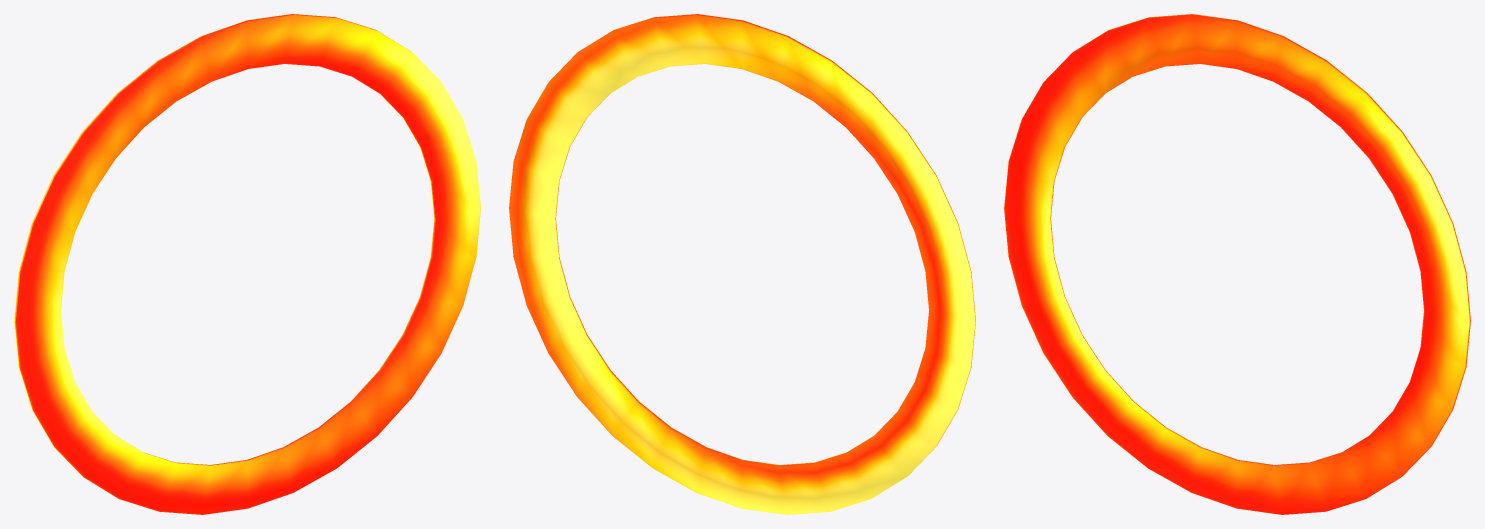
Rendered from Ring.fbx.
3 views of the same model, side by side, from view 1: azimuth 30°, elevation 25°; view 2: azimuth 150°, elevation 25°; view 3: azimuth 330°, elevation 25° (orthographic).
Parts seen in each view (by area): view 1: Hoop; view 2: Hoop; view 3: Hoop.
Part boxes in pixels (x1,y1,x2,y2): Hoop: (14,14,480,514); Hoop: (509,14,975,514); Hoop: (1004,14,1470,514).
Size of the model in its own units: 4.32 by 4.32 by 0.0234.
Materials: 1 (1 with a texture image).
